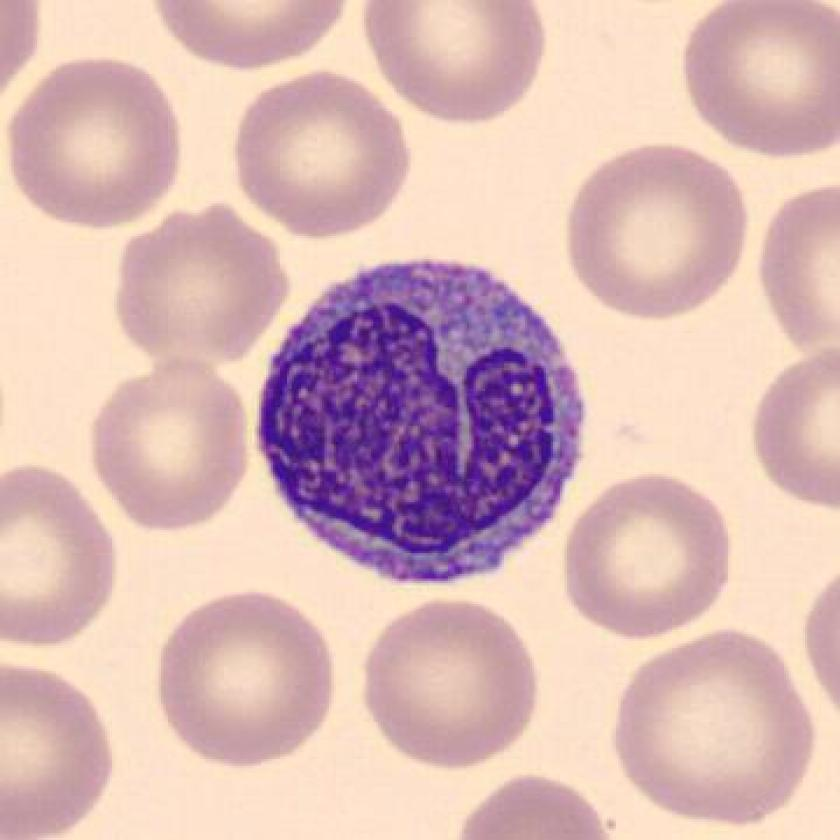monocyte: (239, 244, 601, 596)
